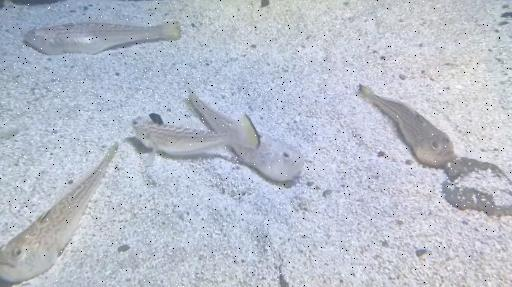Fish: (0, 142, 118, 283), (358, 85, 456, 168), (132, 113, 260, 165), (23, 22, 181, 55), (232, 134, 305, 182), (279, 265, 283, 286)
